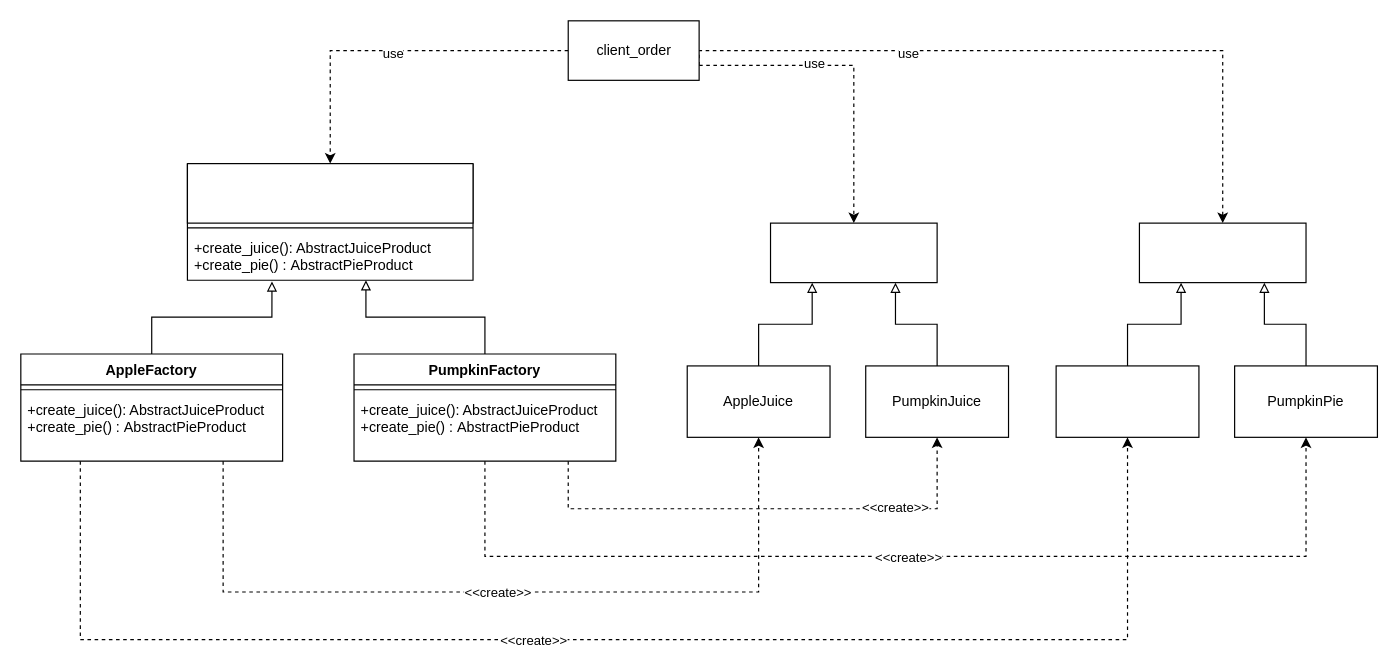
Some shapes in this 1398 by 670 pixel diagram are drawn without their labels. Here are the shapes that lost their labels. From the top down, the centre of each, then its label:
At pixel 329 192: "«interface» AbstractFactory".
At pixel 853 252: "«interface» AbstractJuiceProduct".
At pixel 1222 252: "«interface» AbstractPieProduct".
At pixel 1127 401: "ApplePie".
